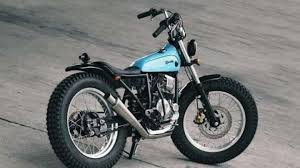motor: (34, 12, 264, 168)
